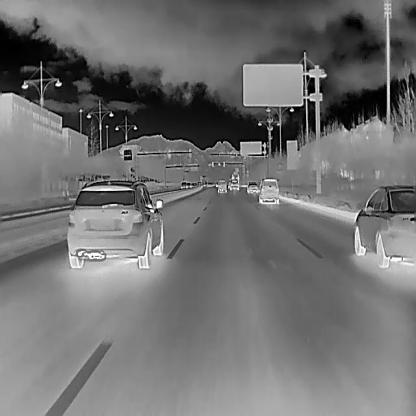car: (66, 178, 163, 268), (353, 184, 415, 268), (257, 177, 279, 204), (216, 180, 227, 194), (246, 182, 258, 194), (228, 179, 238, 190), (186, 180, 192, 188), (180, 181, 186, 188), (196, 180, 202, 186)
truck: (230, 170, 239, 180)
